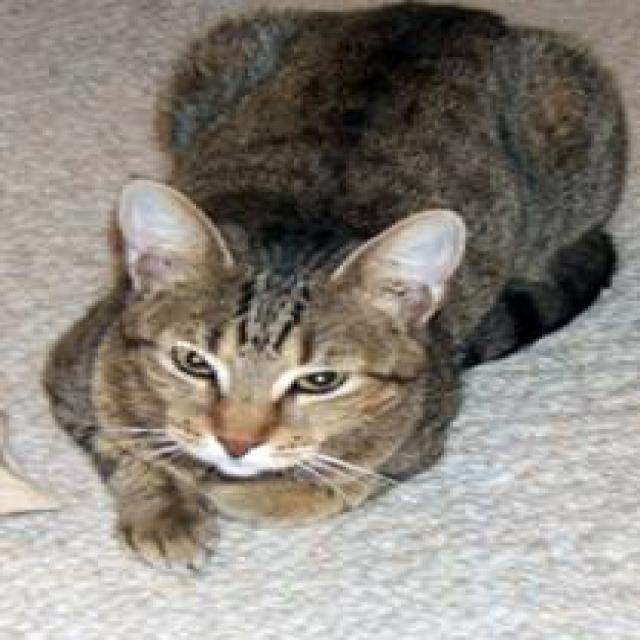cat: (40, 0, 628, 571)
